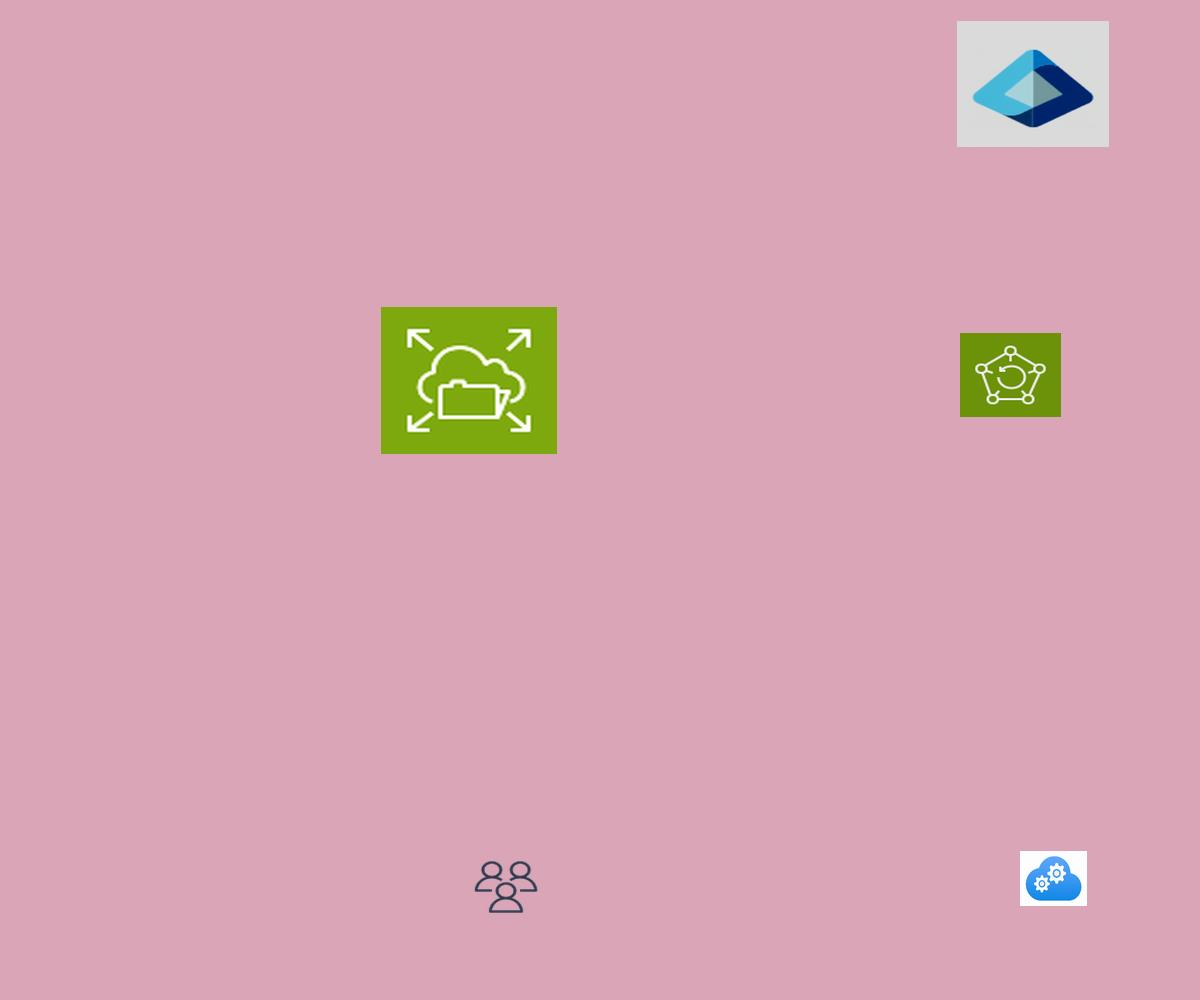AWS-Backup: (960, 333, 1061, 417)
AWS-EFS: (381, 307, 557, 454)
AWS-Res_Users: (472, 859, 540, 915)
Azure_cloud_services: (1020, 851, 1087, 906)
Azure_microsoft_entra: (957, 21, 1109, 147)
